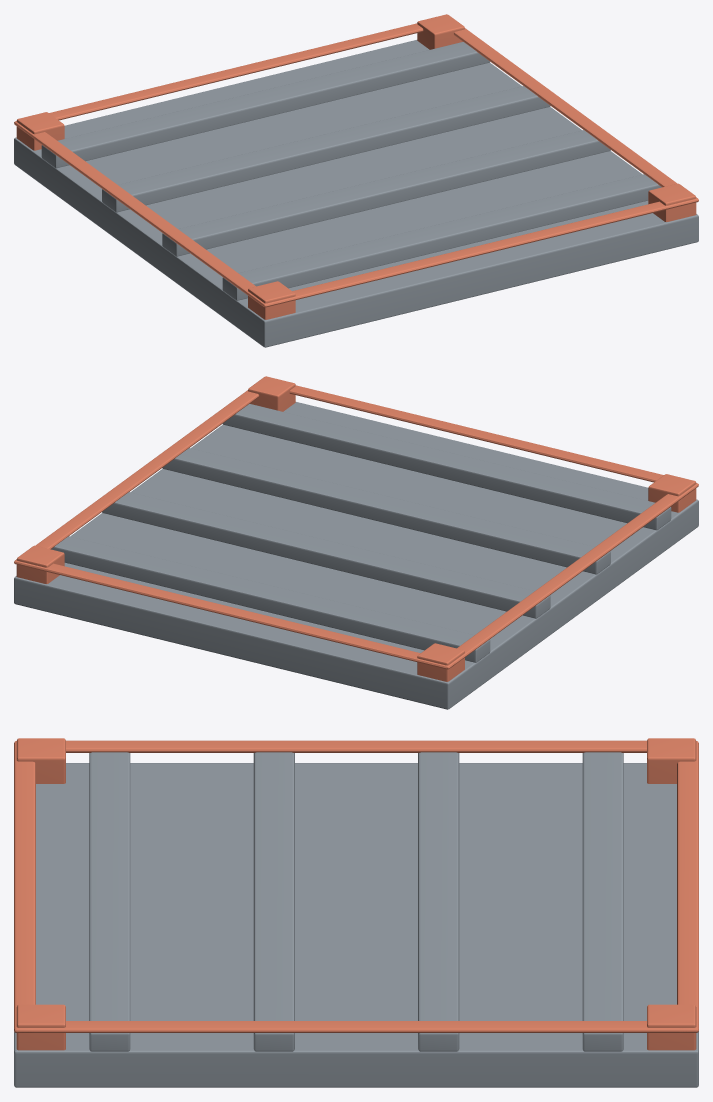
Rendered from deck_hatch.glb.
The picture shows the model from 3 angles, top to bottom: view 1: azimuth 30°, elevation 25°; view 2: azimuth 150°, elevation 25°; view 3: azimuth 270°, elevation 25°; orthographic projection. The views are drawn at different scales.
Visible parts, largest first — view 1: deck_hatch; view 2: deck_hatch; view 3: deck_hatch.
Part boxes in pixels (x1,y1,x2,y2): deck_hatch: [14, 14, 698, 347]; deck_hatch: [14, 376, 698, 709]; deck_hatch: [14, 738, 698, 1087].
Size of the model in its own units: 2.5 by 0.255 by 2.5.
